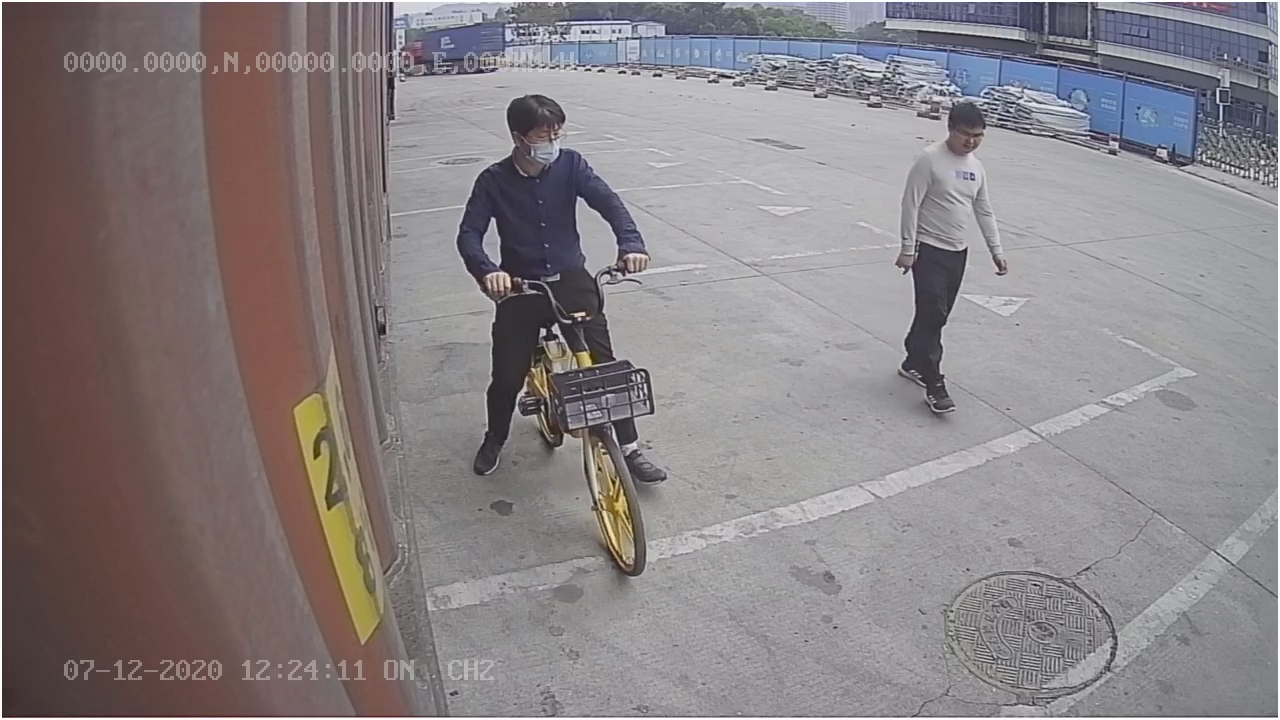person: (885, 99, 1016, 421)
